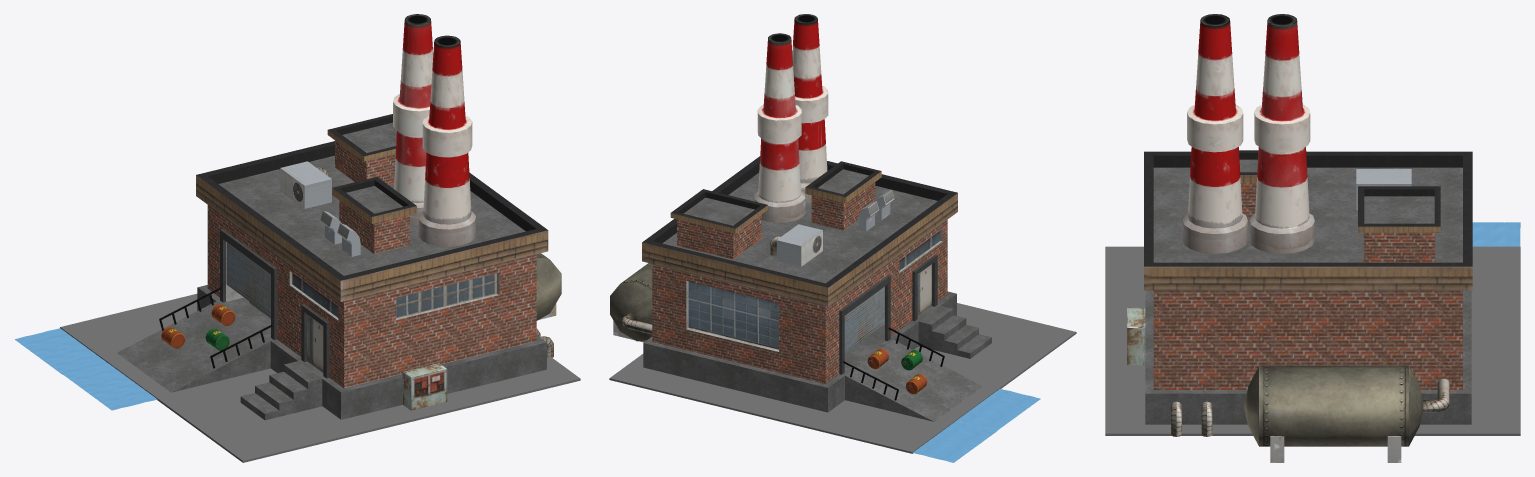
File: factory.glb
The picture shows the model from 3 angles, left to right: view 1: azimuth 30°, elevation 25°; view 2: azimuth 150°, elevation 25°; view 3: azimuth 270°, elevation 25°; orthographic projection. The views are drawn at different scales.
Visible parts, largest first — view 1: Cube, River1, River 2; view 2: Cube, River1, River 2; view 3: Cube, River1.
Part boxes in pixels (x1=…): Cube: x1=60, y1=14, x2=580, y2=462; River1: x1=15, y1=328, x2=108, y2=374; River 2: x1=63, y1=364, x2=157, y2=410; Cube: x1=609, y1=14, x2=1076, y2=453; River1: x1=913, y1=421, x2=996, y2=462; River 2: x1=956, y1=389, x2=1040, y2=430; Cube: x1=1105, y1=14, x2=1520, y2=462; River1: x1=1472, y1=222, x2=1520, y2=246.
Size of the model in its own units: 68.66 by 49.31 by 50.31.
7 materials, 4 textured.
